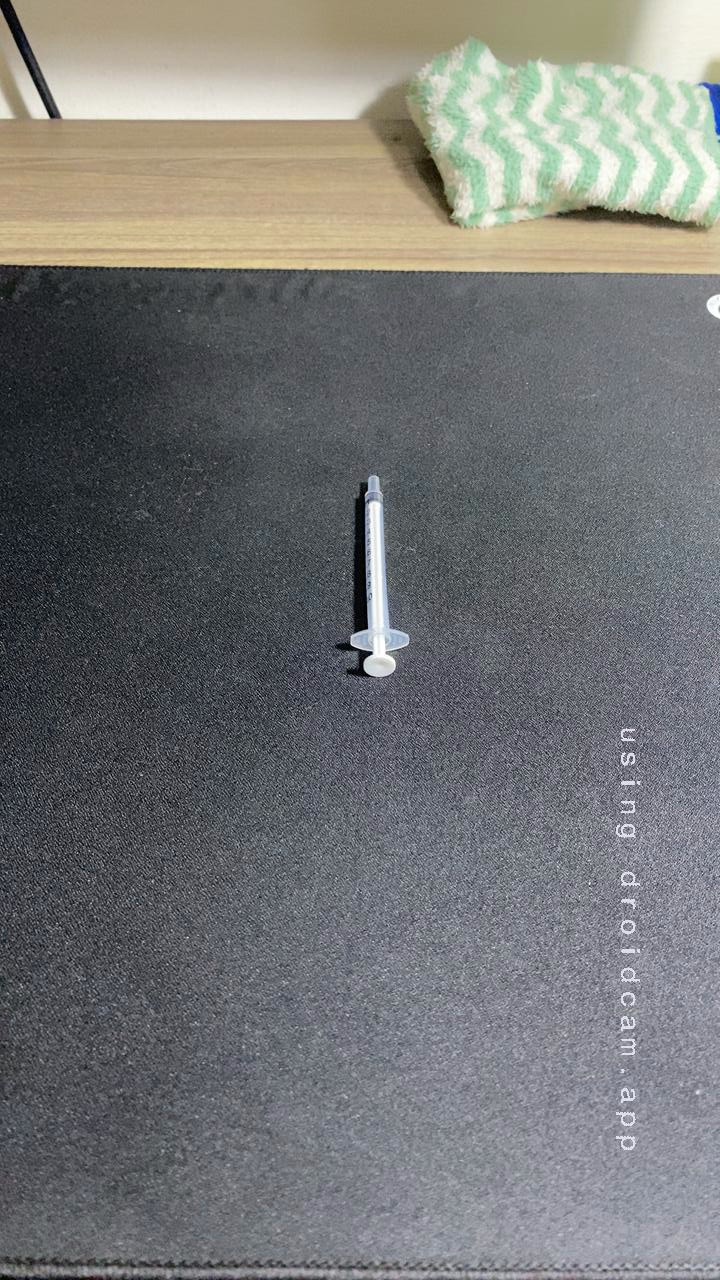syringe: (337, 466, 418, 686)
